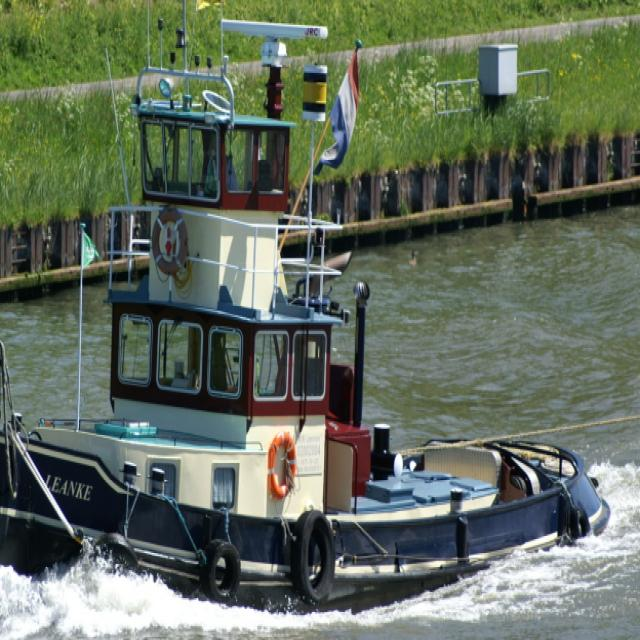tugboat: (1, 9, 617, 624)
